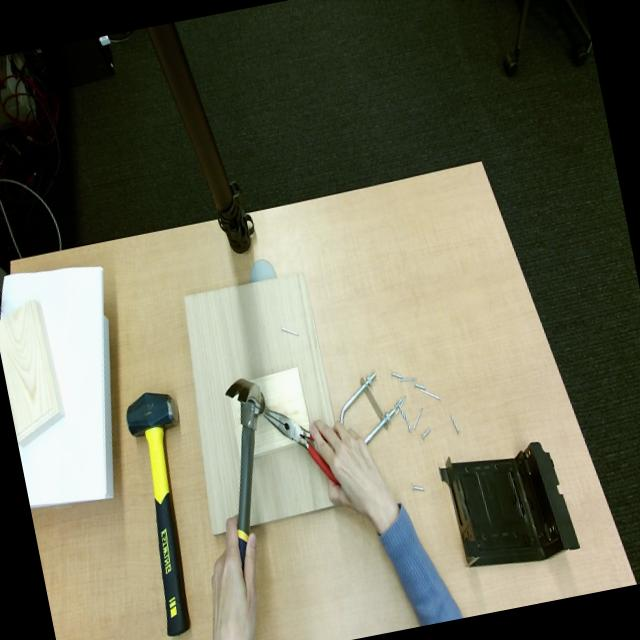hammer: (126, 392, 190, 637), (226, 378, 267, 566)
pliers: (264, 409, 339, 485)
